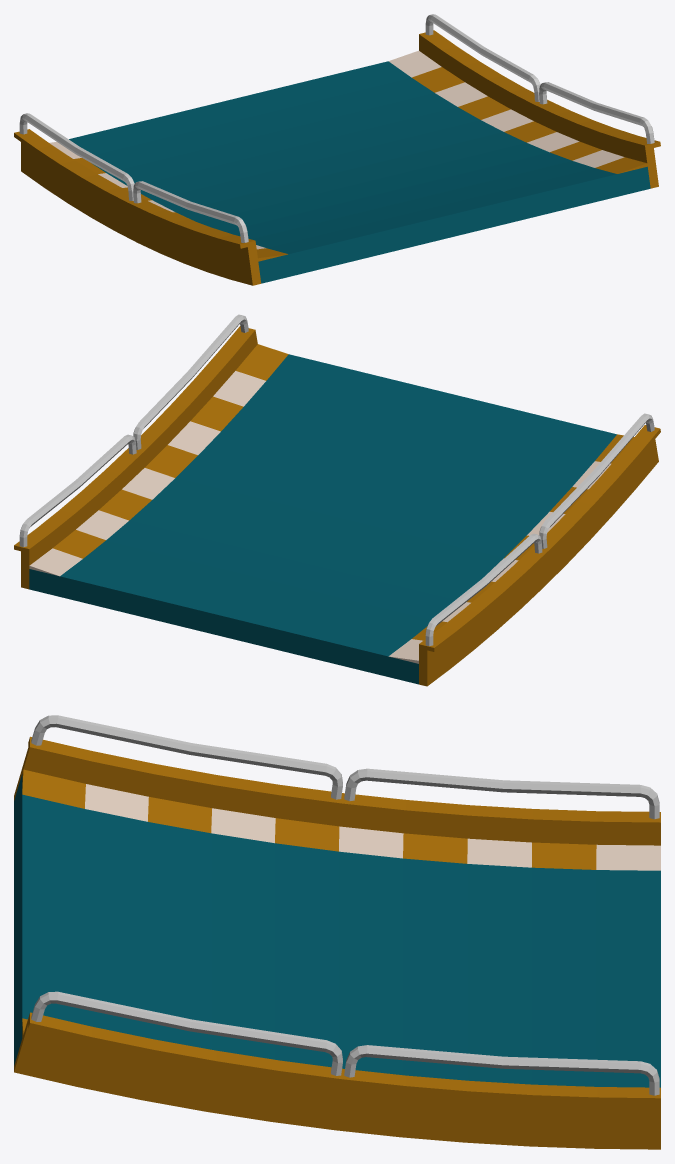
Rendered from ascent-15_s.FBX.
3 views of the same model, one above another, from view 1: azimuth 30°, elevation 25°; view 2: azimuth 150°, elevation 25°; view 3: azimuth 270°, elevation 25° (orthographic). The views are drawn at different scales.
Visible parts, largest first — view 1: ascent-15_s, wall_r, wall_l, curbs_l, curbs_r; view 2: ascent-15_s, wall_r, wall_l, curbs_l, curbs_r; view 3: ascent-15_s, wall_l, wall_r, curbs_r.
Part boxes in pixels (bbox=[...]): ascent-15_s: bbox=[69, 61, 650, 283]; wall_r: bbox=[14, 113, 261, 285]; wall_l: bbox=[419, 14, 660, 188]; curbs_l: bbox=[388, 50, 647, 173]; curbs_r: bbox=[49, 142, 287, 261]; ascent-15_s: bbox=[29, 354, 616, 684]; wall_r: bbox=[419, 413, 660, 686]; wall_l: bbox=[14, 314, 257, 589]; curbs_l: bbox=[29, 344, 288, 576]; curbs_r: bbox=[388, 434, 634, 663]; ascent-15_s: bbox=[14, 774, 660, 1087]; wall_l: bbox=[14, 991, 660, 1149]; wall_r: bbox=[14, 715, 660, 845]; curbs_r: bbox=[22, 769, 660, 870].
Size of what is drawn, in the model's own units: 207 by 52.78 by 198.
